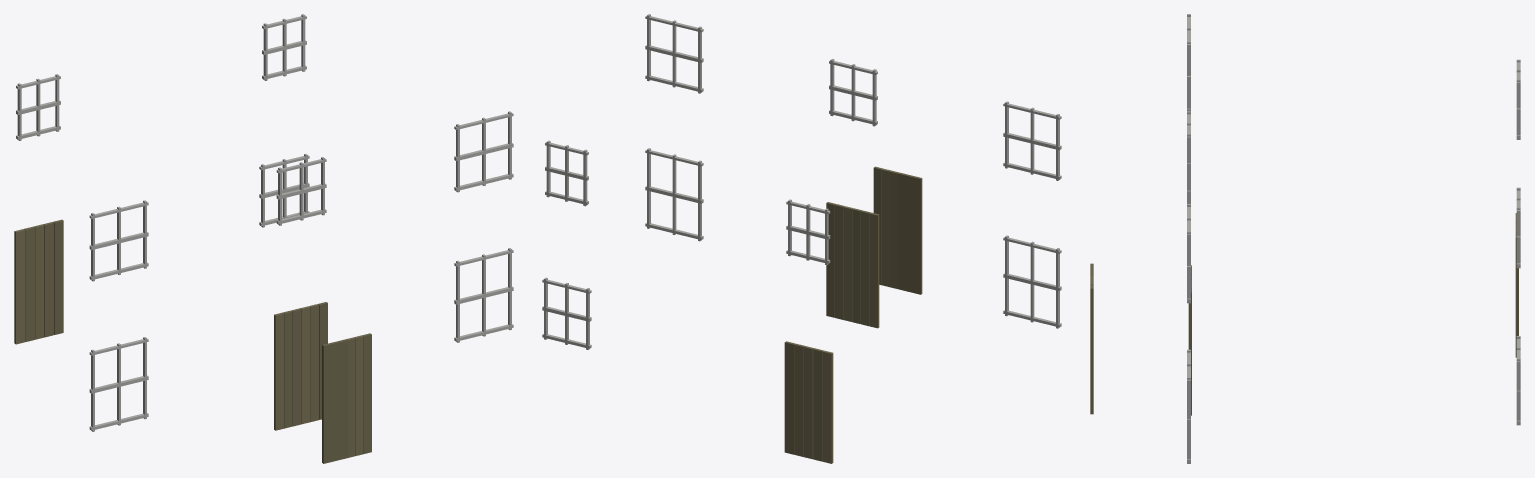
File: SM_Bld_222_Wood.glb
3 views of the same model, side by side, from view 1: azimuth 30°, elevation 25°; view 2: azimuth 150°, elevation 25°; view 3: azimuth 270°, elevation 25° (orthographic). The views are drawn at different scales.
Visible parts, largest first — view 1: SM_Bld_222_Wood; view 2: SM_Bld_222_Wood; view 3: SM_Bld_222_Wood.
Boxes of the visible parts, bbox=[...] form: SM_Bld_222_Wood: bbox=[14, 14, 513, 463]; SM_Bld_222_Wood: bbox=[542, 14, 1061, 463]; SM_Bld_222_Wood: bbox=[1090, 14, 1520, 463].
Size of the model in its own units: 7.87 by 4.66 by 6.51.
